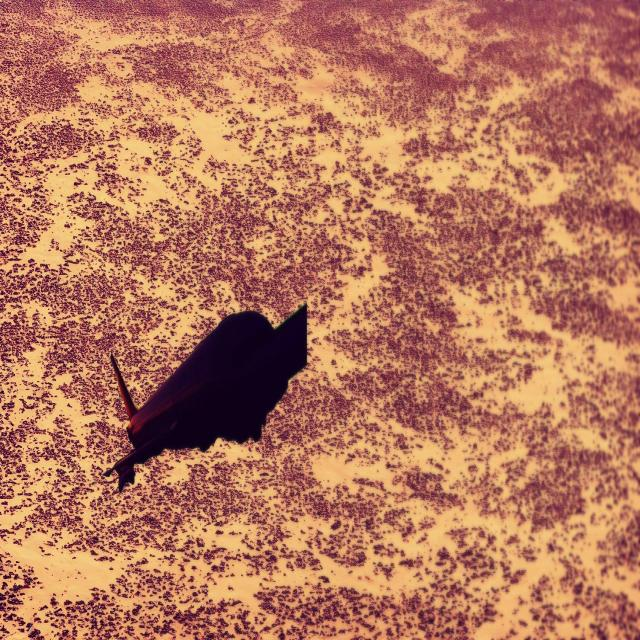airplane: (102, 300, 308, 493)
